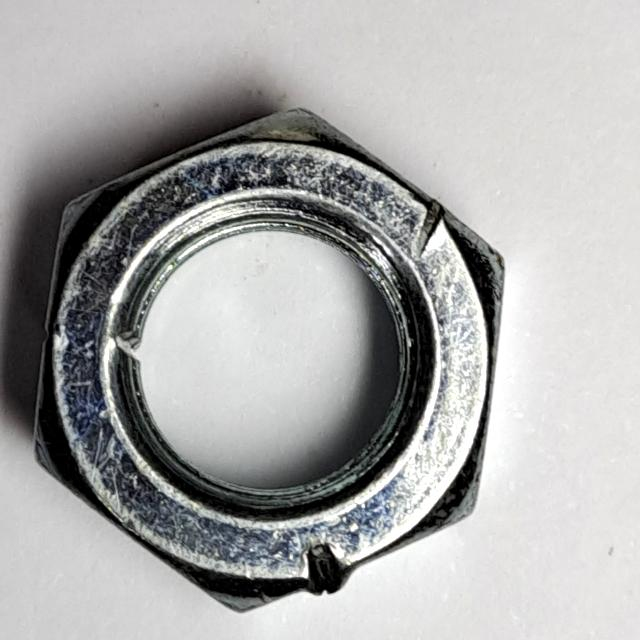Scratches: (25, 101, 517, 627)
